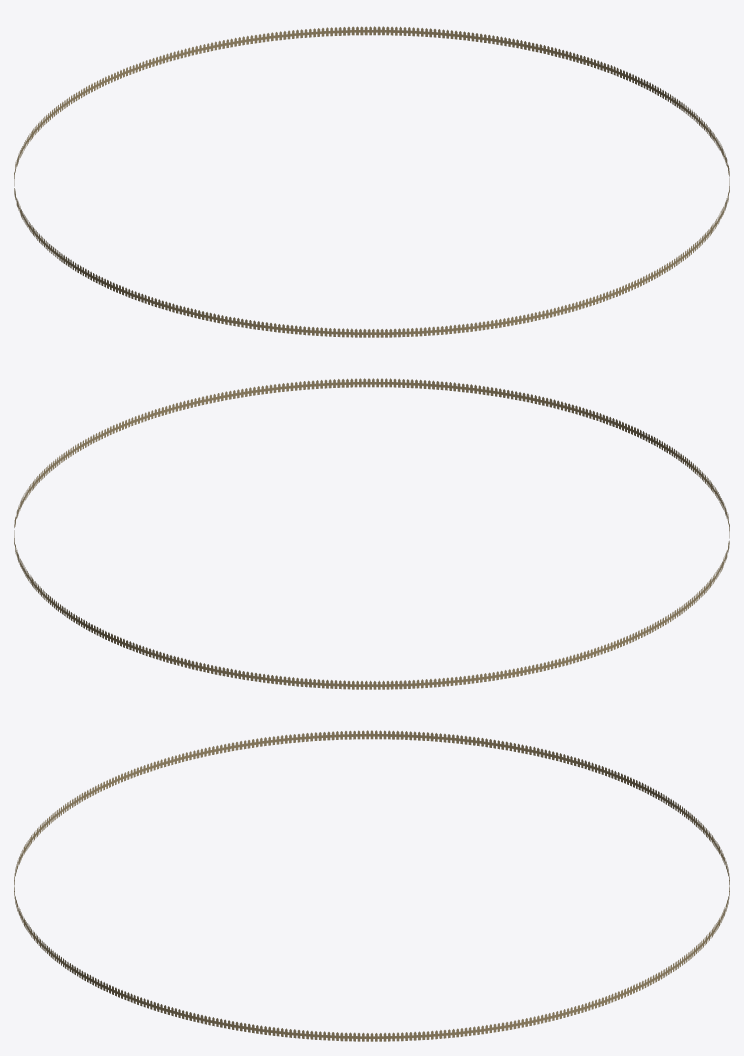
The model's file is Uskrs samo ograda 16. mart.fbx.
3 renders of one model, top to bottom at view 1: azimuth 30°, elevation 25°; view 2: azimuth 150°, elevation 25°; view 3: azimuth 270°, elevation 25°, orthographic.
Parts seen in each view (by area): view 1: Ograda; view 2: Ograda; view 3: Ograda.
Boxes of the visible parts, bbox=[...] form: Ograda: bbox=[14, 26, 729, 337]; Ograda: bbox=[14, 378, 729, 689]; Ograda: bbox=[14, 730, 729, 1041].
Bounding box in the file's own units: 3964 × 129 × 3964.
1 material, 1 textured.
